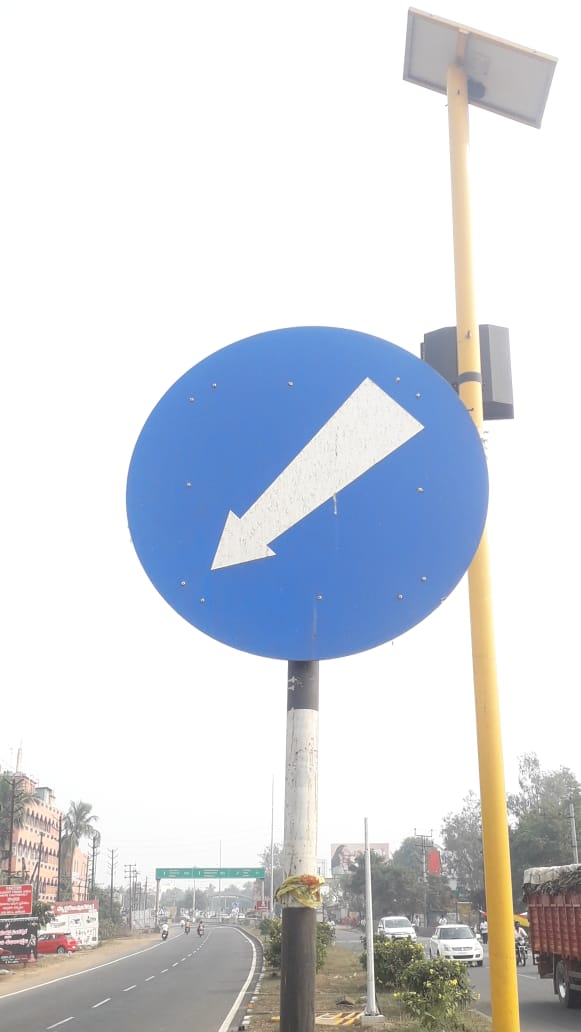go left: (120, 314, 555, 719)
